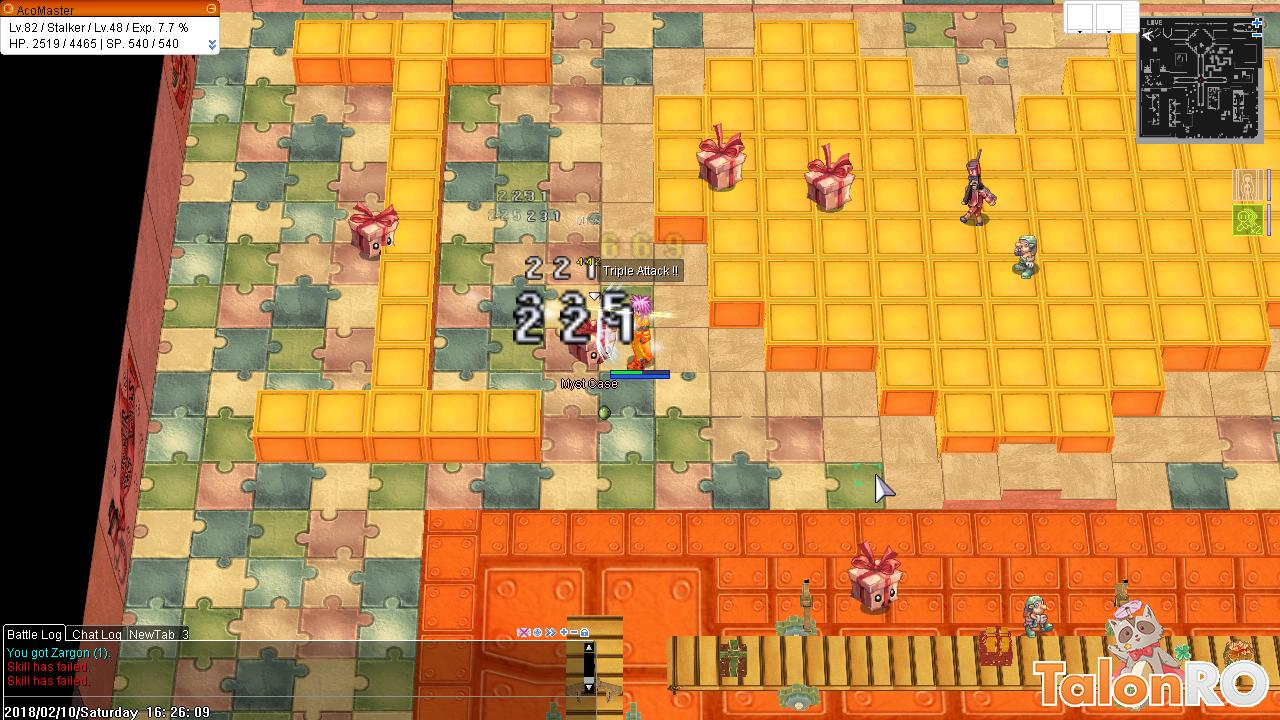loot: (594, 398, 616, 423)
mob: (951, 143, 1000, 234)
myst_case: (842, 535, 907, 616), (688, 116, 752, 198), (797, 138, 858, 215), (342, 192, 398, 265), (563, 299, 612, 377)
